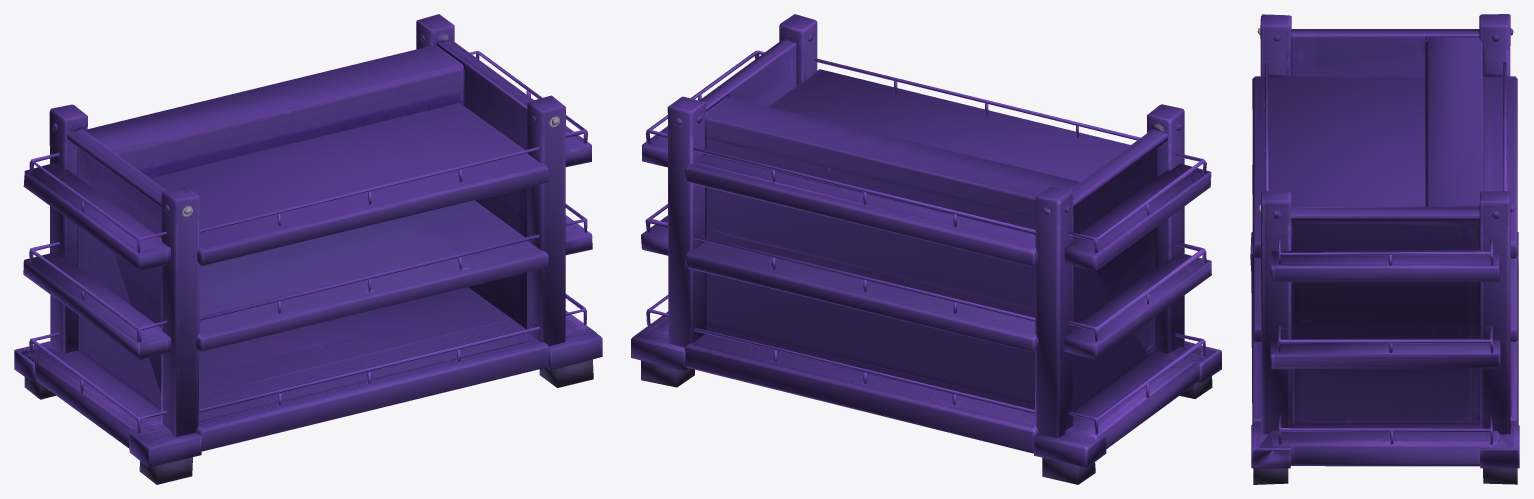
The model's file is Purple_Utility_Shelf_0913012548.fbx.
3 renders of one model, left to right at view 1: azimuth 30°, elevation 25°; view 2: azimuth 150°, elevation 25°; view 3: azimuth 270°, elevation 25°, orthographic.
Visible parts, largest first — view 1: Mesh_0; view 2: Mesh_0; view 3: Mesh_0.
Boxes of the visible parts, left/top/right/bottom form: Mesh_0: left=14, top=14, right=602, bottom=484; Mesh_0: left=631, top=14, right=1221, bottom=484; Mesh_0: left=1250, top=14, right=1519, bottom=484.
Bounding box in the file's own units: 100 × 58.2 × 52.15.
Materials: 1 (1 with a texture image).
